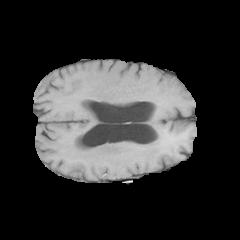glioma: (67, 135, 164, 169)
